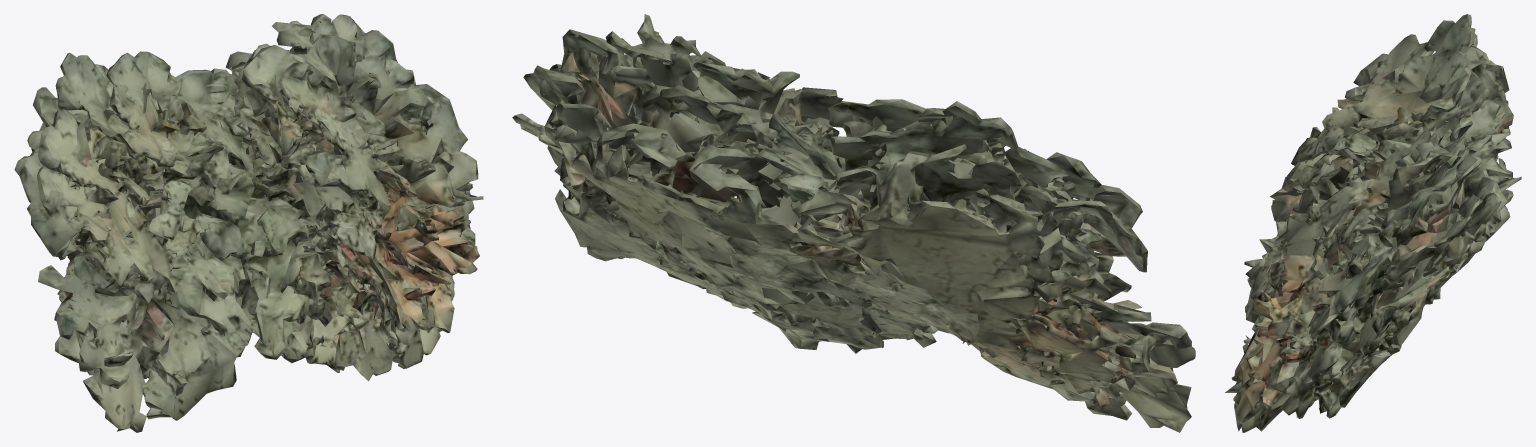
Rendered from lichen-surface-v8.glb.
The picture shows the model from 3 angles, left to right: view 1: azimuth 30°, elevation 25°; view 2: azimuth 150°, elevation 25°; view 3: azimuth 270°, elevation 25°; orthographic projection. The views are drawn at different scales.
Visible parts, largest first — view 1: geometry_0; view 2: geometry_0; view 3: geometry_0.
Boxes of the visible parts, bbox=[...] form: geometry_0: bbox=[14, 14, 483, 432]; geometry_0: bbox=[512, 14, 1195, 432]; geometry_0: bbox=[1225, 14, 1521, 432].
Bounding box in the file's own units: 0.12 × 0.0801 × 0.0707.
Materials: 1 (1 with a texture image).
